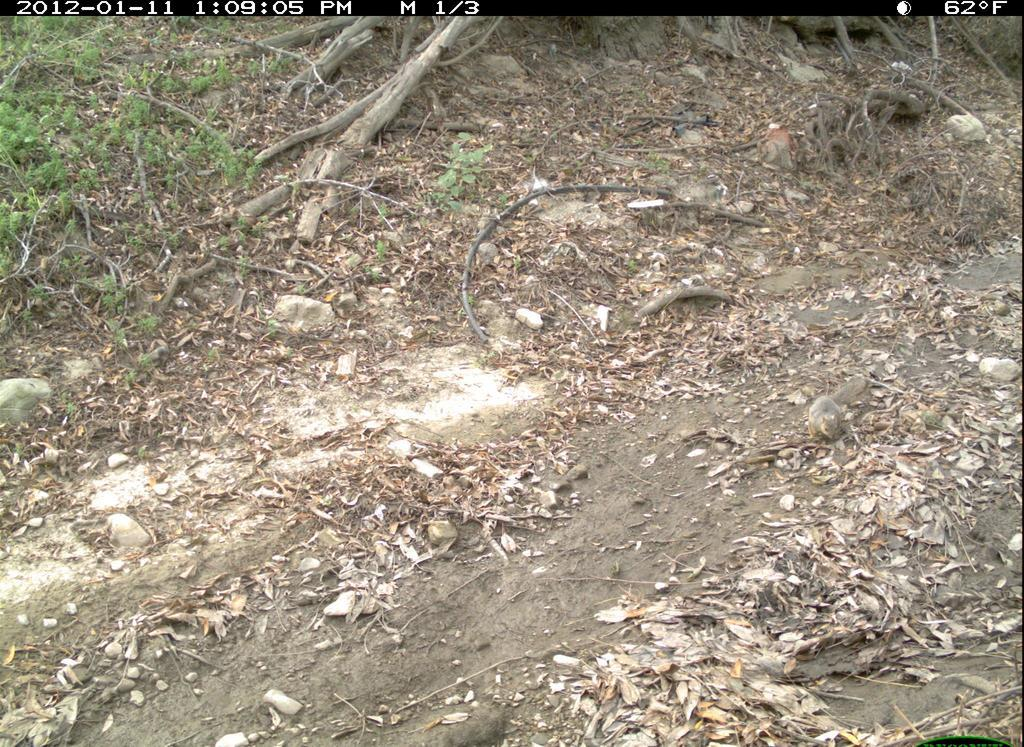squirrel: (798, 370, 877, 449)
